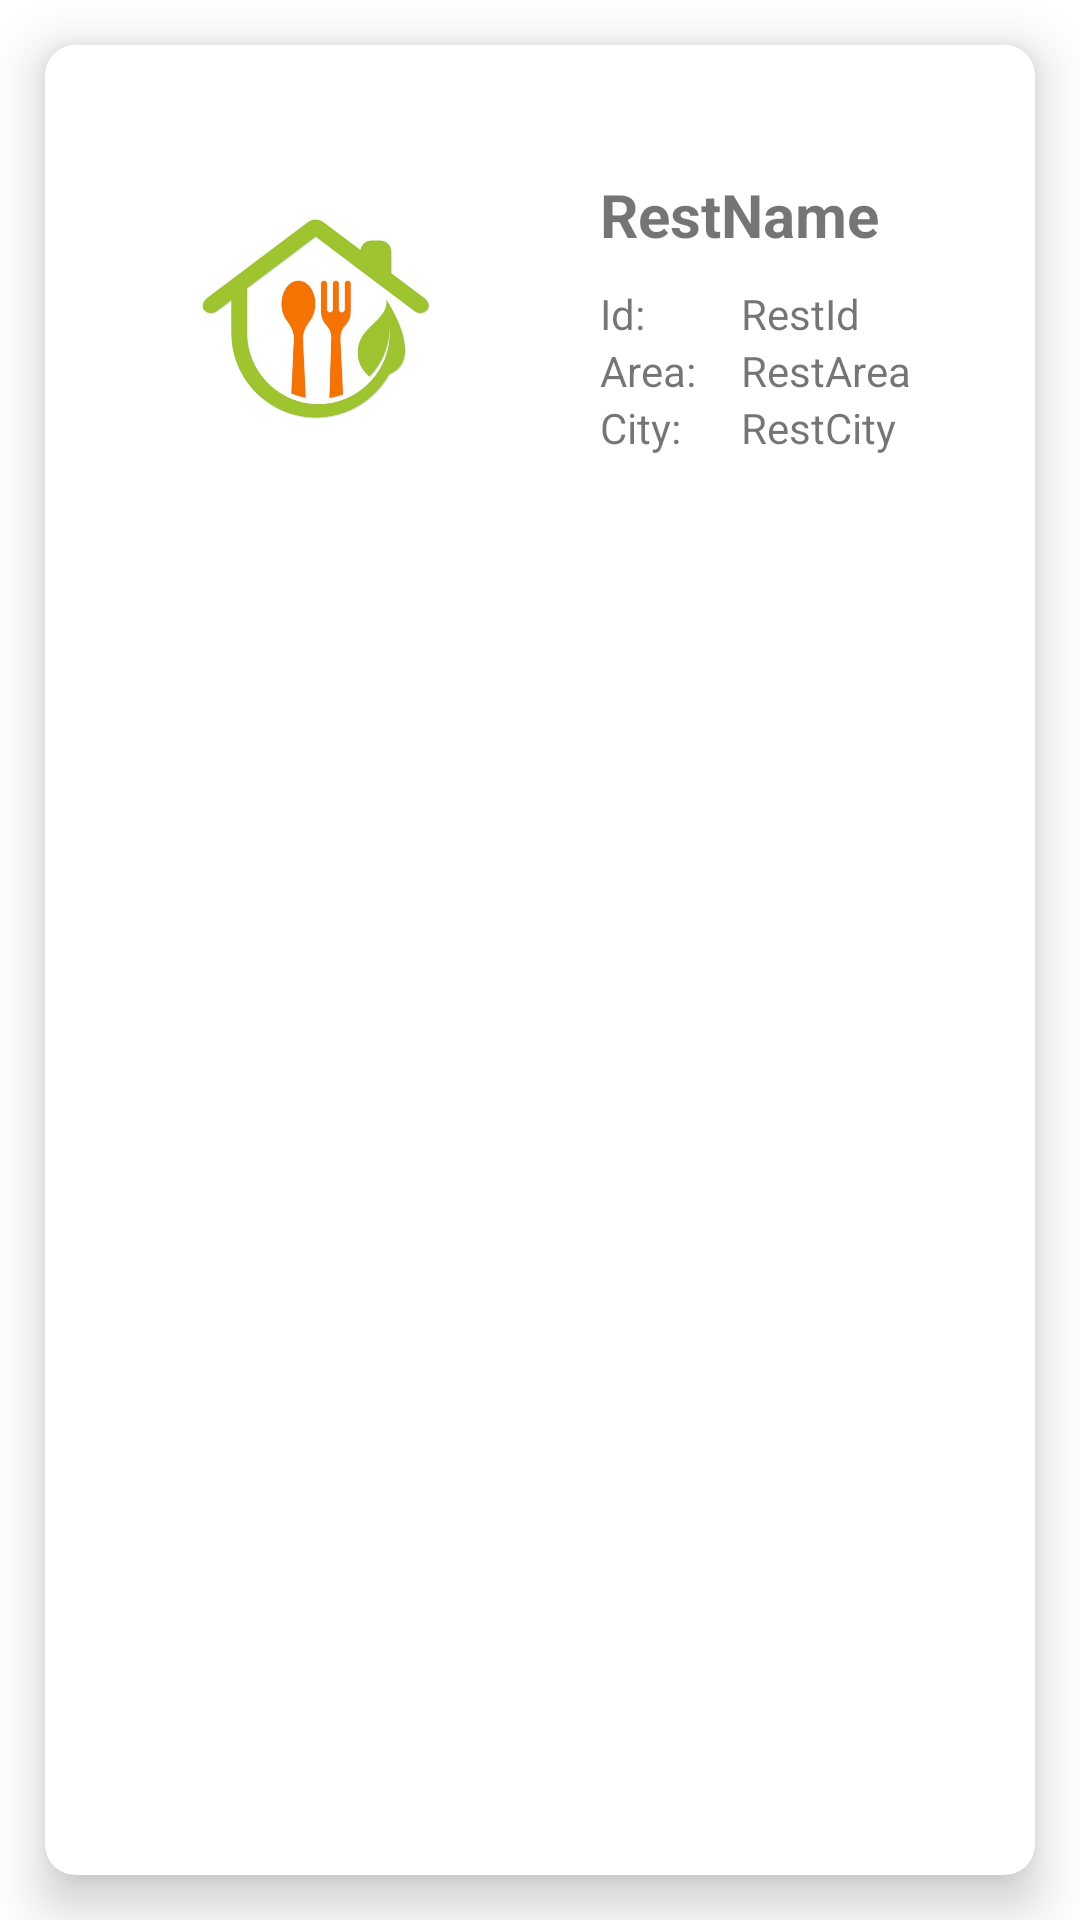

Icon bounding boxes for this 1080w x 1920h phone screenshot, format (x1, y1, x2, y2):
food: (202, 219, 429, 418)
